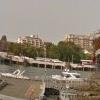Boat: (46, 64, 90, 89)
